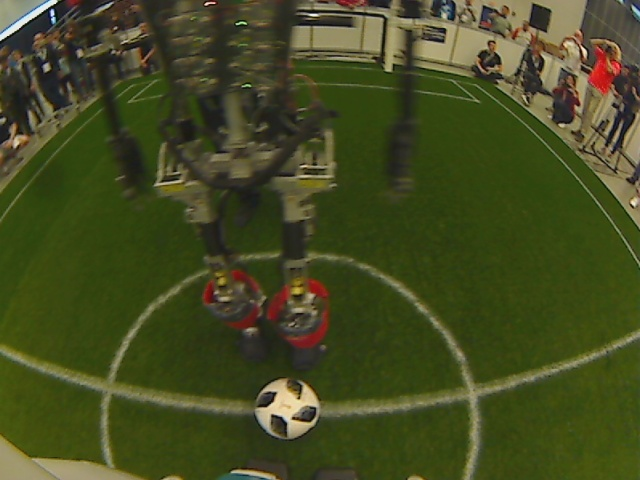ball: (254, 373, 325, 442)
